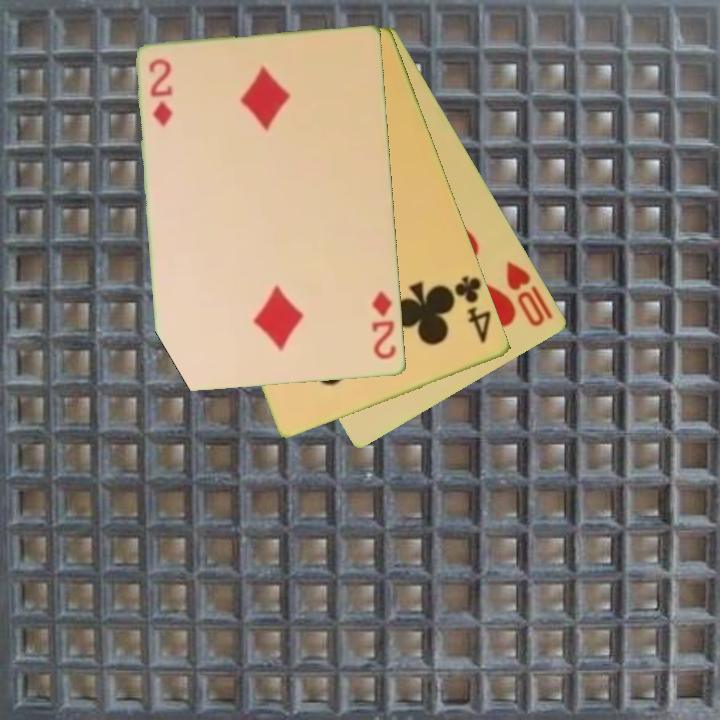10h: (503, 257, 557, 330)
2d: (368, 288, 399, 363), (146, 55, 176, 130)
4c: (447, 272, 495, 346)
